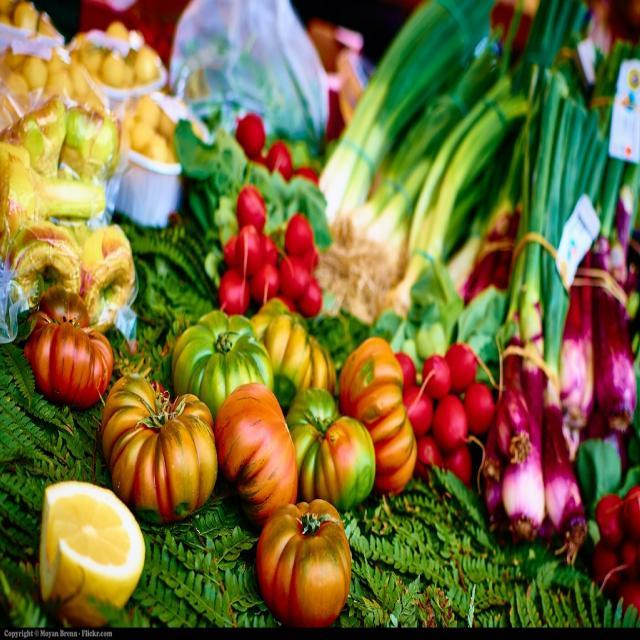Orange: (0, 0, 205, 164), (36, 477, 144, 627)
